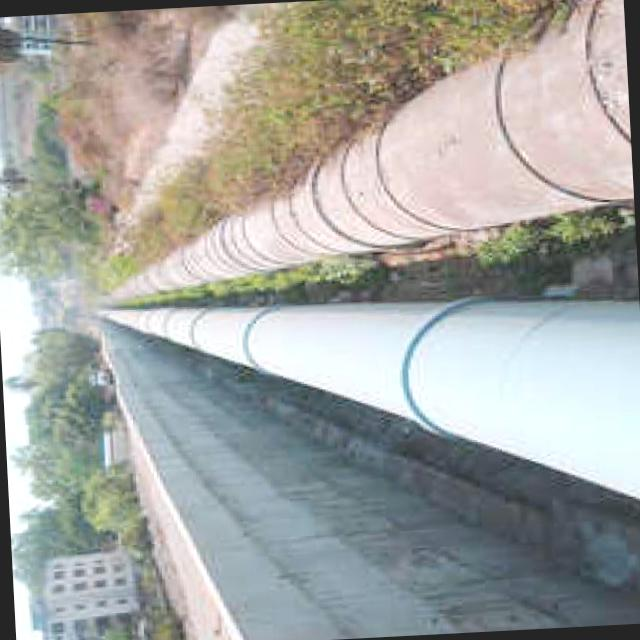gas: (113, 0, 634, 296), (103, 299, 640, 498)
